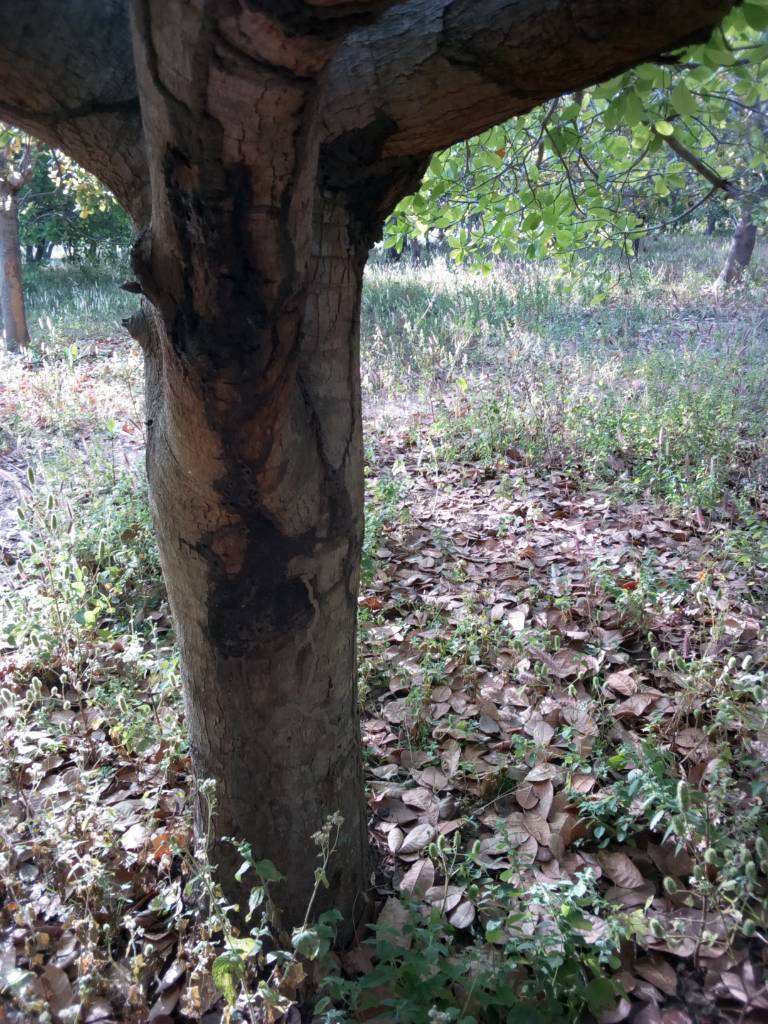Termites: (188, 408, 363, 849)
